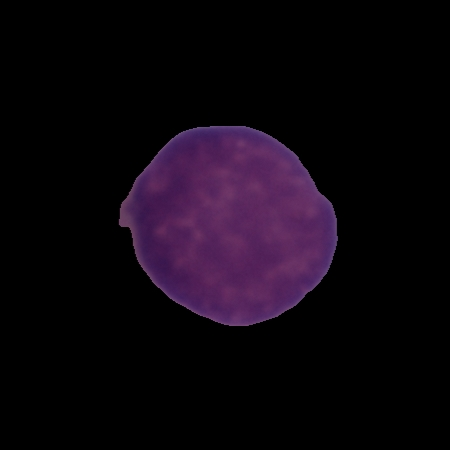HEM: (114, 120, 342, 331)
